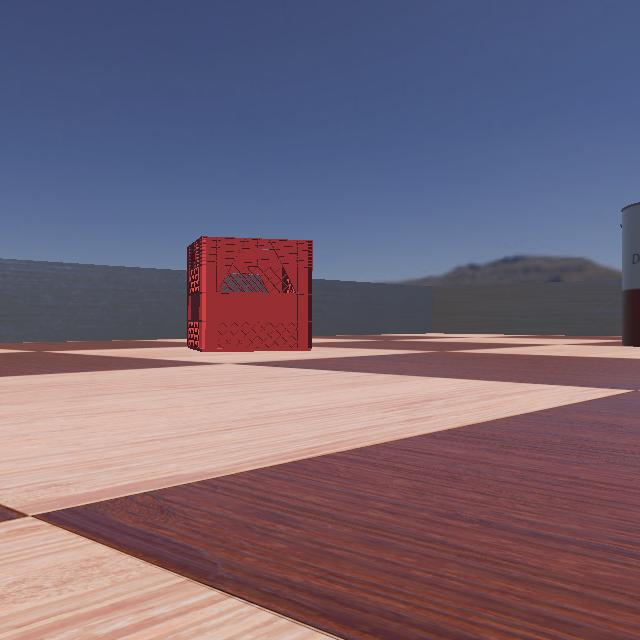paint-bucket: (580, 190, 640, 350), (580, 190, 640, 350)
plastic-crate: (165, 235, 313, 351)
